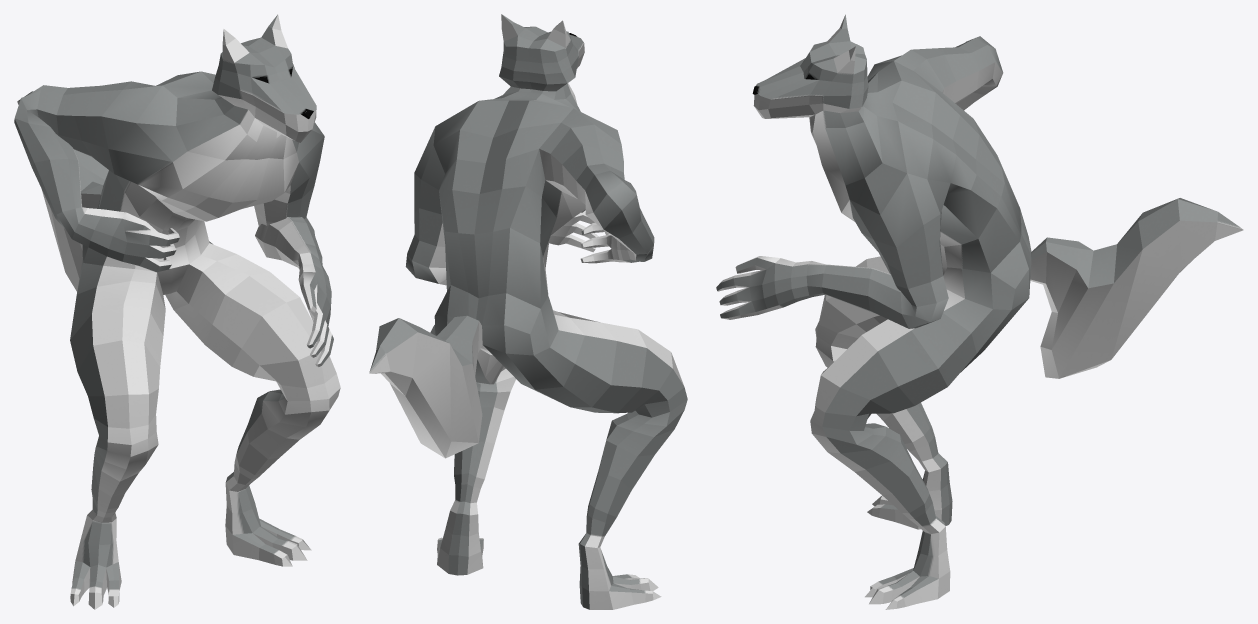
File: WolfIdle_(53).obj
3 views of the same model, side by side, from view 1: azimuth 30°, elevation 25°; view 2: azimuth 150°, elevation 25°; view 3: azimuth 270°, elevation 25° (orthographic). The views are drawn at different scales.
Visible parts, largest first — view 1: Box001; view 2: Box001; view 3: Box001.
Part boxes in pixels (x1,y1,x2,y2): Box001: (14, 14, 340, 609); Box001: (369, 14, 687, 609); Box001: (716, 14, 1243, 609).
Size of the model in its own units: 65.34 by 132 by 116.
